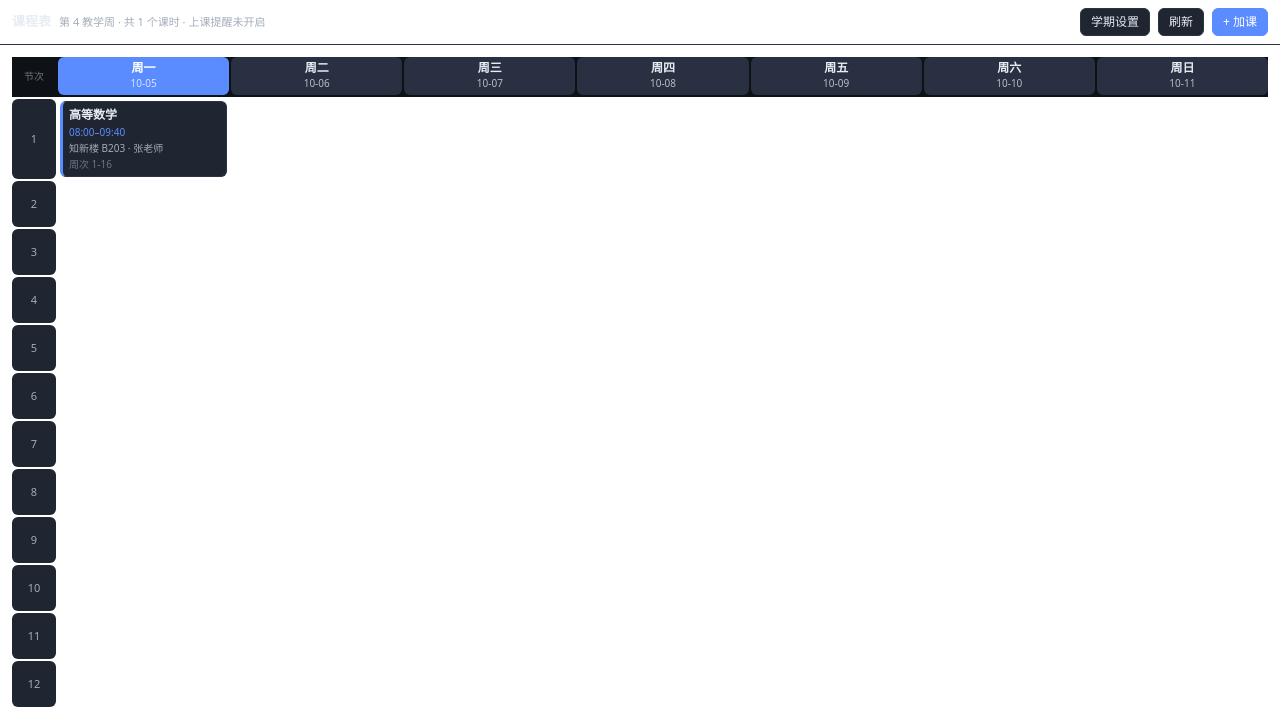
Test: CourseApp（节次 × 星期 网格） › ④ 学期设置入口可开（含第一周周一字段）
This screenshot has width=1280, height=720.
Expected: the text "第 4 教学周 · 共 1 个课时 · 上课提醒未开启" is shown, [59, 14, 265, 30]
What coordinates should you click on to do the following:
click the button with test id "course-term"
I would click on:
 (1115, 22)
Its box is [1080, 8, 1150, 36].
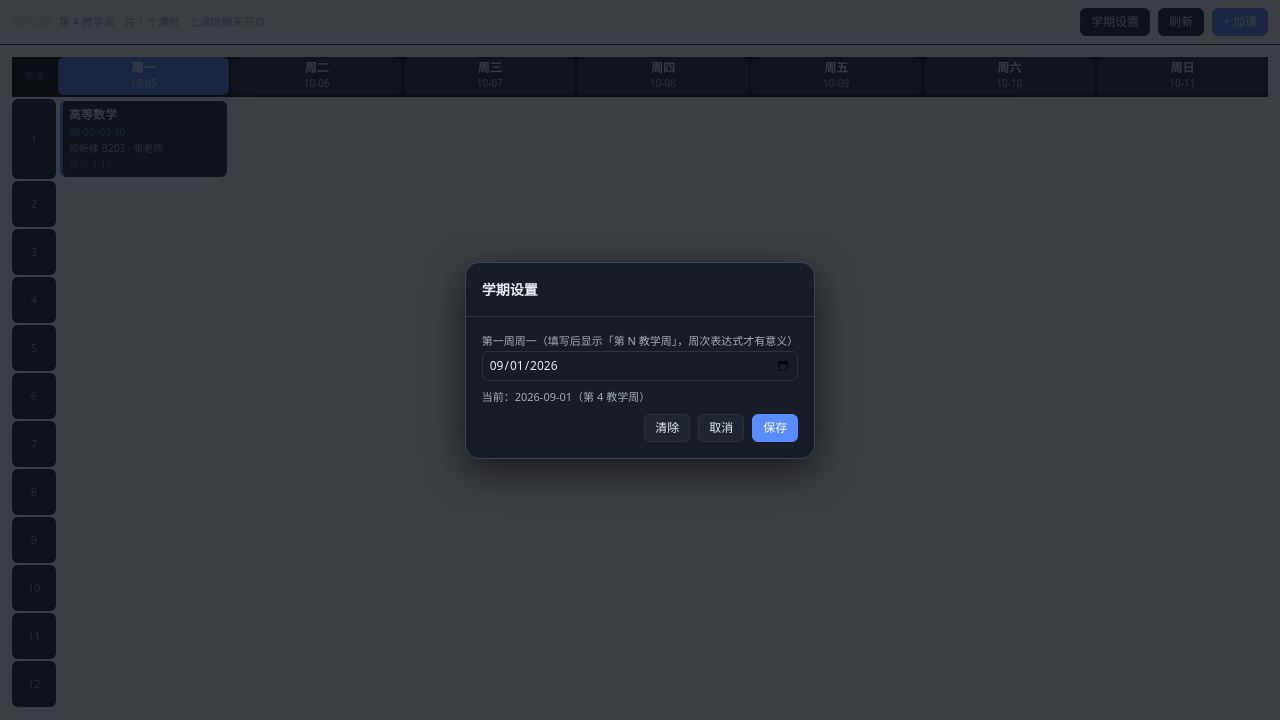
Result: the date field with test id "course-term-input" is shown at [482, 351, 798, 381]
